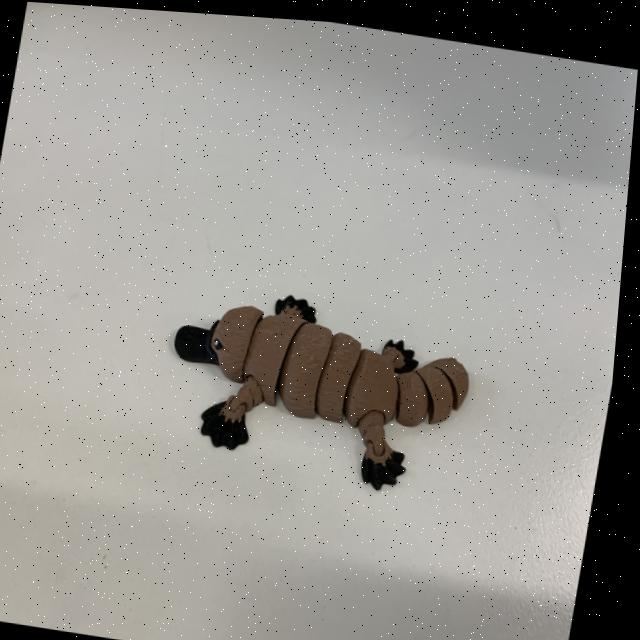platypus: (122, 253, 516, 546)
